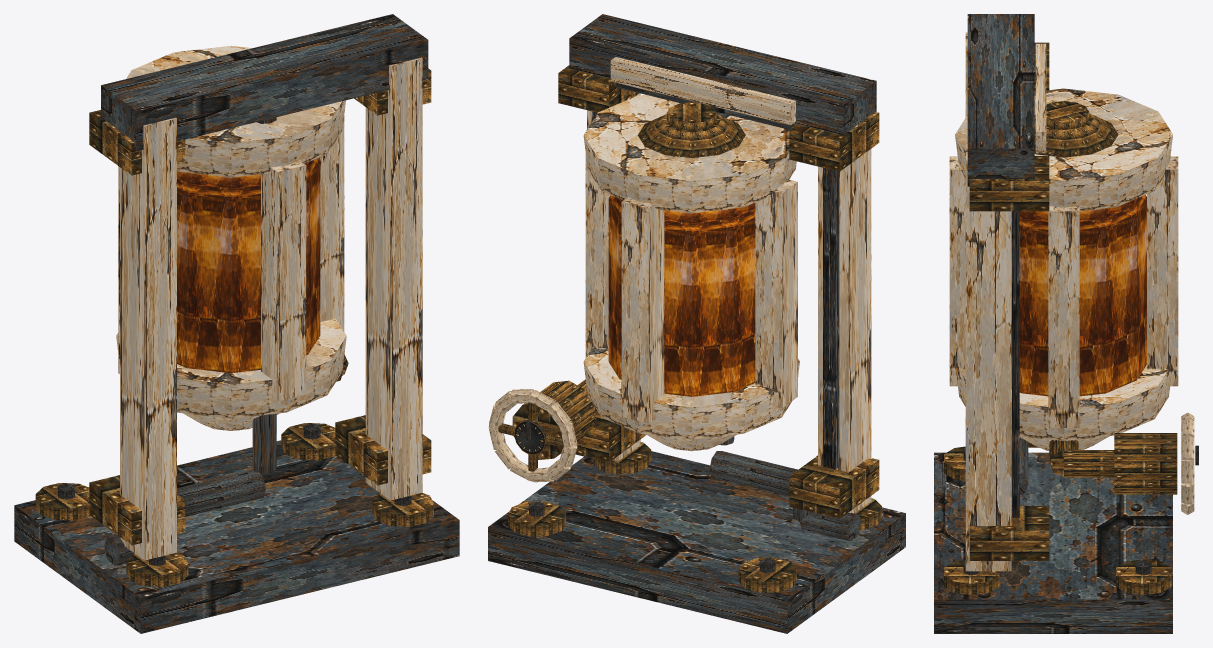
File: refractory-ceramic-crucible.gltf
The picture shows the model from 3 angles, left to right: view 1: azimuth 30°, elevation 25°; view 2: azimuth 150°, elevation 25°; view 3: azimuth 270°, elevation 25°; orthographic projection. The views are drawn at different scales.
Parts seen in each view (by area): view 1: FloorPlinth, RearColumn_0.32, RearColumn_-0.32, Header, StockVolume, CeramicStave1.5707963267948966, CrucibleCollar1.03, CrucibleCollar0.43, CeramicStave0, ColumnBracket_0.32_0.22, ColumnBracket_-0.32_0.22, FloorConduit_0 (+8 smaller); view 2: FloorPlinth, StockVolume, Header, CrucibleCollar1.03, RearColumn_-0.32, CeramicStave4.71238898038469, CeramicStave3.141592653589793, CrucibleCollar0.43, ColumnInset_-0.32, HeaderIvoryInlay, CeramicStave0, ColumnBracket_-0.32_0.22 (+13 smaller); view 3: FloorPlinth, StockVolume, RearColumn_0.32, Header, CrucibleCollar1.03, CeramicStave0, CeramicStave4.71238898038469, CrucibleCollar0.43, ValveHousing, CeramicStave1.5707963267948966, ColumnBracket_0.32_0.22, ColumnBracket_0.32_1.14 (+11 smaller).
Part boxes in pixels (box(x1,y1,x2,y2)): FloorPlinth: box(14, 440, 459, 633); RearColumn_0.32: box(365, 57, 422, 500); RearColumn_-0.32: box(120, 117, 176, 560); Header: box(101, 14, 428, 151); StockVolume: box(177, 158, 320, 373); CeramicStave1.5707963267948966: box(261, 160, 306, 401); CrucibleCollar1.03: box(126, 45, 345, 177); CrucibleCollar0.43: box(116, 318, 346, 418); CeramicStave0: box(318, 116, 344, 331); ColumnBracket_0.32_0.22: box(335, 415, 431, 485); ColumnBracket_-0.32_0.22: box(89, 475, 185, 545); FloorConduit_0: box(177, 470, 265, 516); FloorPlinth: box(488, 451, 905, 633); StockVolume: box(608, 195, 755, 396); Header: box(569, 14, 876, 135); CrucibleCollar1.03: box(583, 94, 796, 213); RearColumn_-0.32: box(818, 149, 871, 513); CeramicStave4.71238898038469: box(621, 197, 664, 423); CeramicStave3.141592653589793: box(755, 179, 797, 407); CrucibleCollar0.43: box(583, 345, 799, 439); ColumnInset_-0.32: box(823, 168, 839, 469); HeaderIvoryInlay: box(610, 57, 795, 125); CeramicStave0: box(585, 154, 610, 357); ColumnBracket_-0.32_0.22: box(789, 455, 879, 518); FloorPlinth: box(934, 452, 1172, 633); StockVolume: box(1011, 195, 1146, 396); RearColumn_0.32: box(965, 145, 1011, 571); Header: box(967, 14, 1034, 186); CrucibleCollar1.03: box(955, 88, 1172, 211); CeramicStave0: box(1048, 206, 1079, 427); CeramicStave4.71238898038469: box(1147, 156, 1178, 386); CrucibleCollar0.43: box(958, 365, 1170, 441); ValveHousing: box(1114, 433, 1177, 494); CeramicStave1.5707963267948966: box(949, 156, 965, 386); ColumnBracket_0.32_0.22: box(969, 506, 1049, 560); ColumnBracket_0.32_1.14: box(969, 156, 1049, 211).
Bounding box in the file's own units: 0.83 × 1.26 × 0.6315.
Materials: 6 (6 with a texture image).
